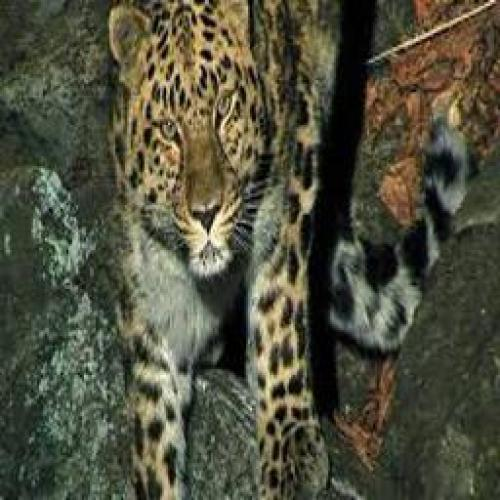amur_leopard-endangered: (106, 0, 324, 500)
